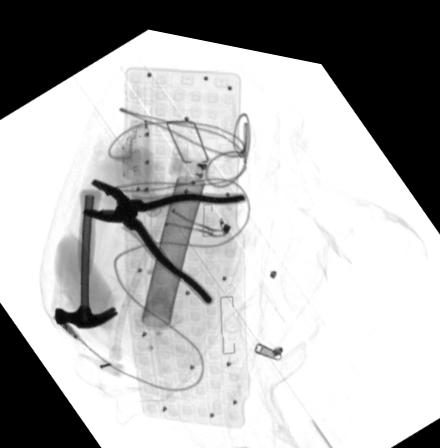Hammer: (53, 185, 117, 326)
Pliers: (81, 175, 248, 297)
